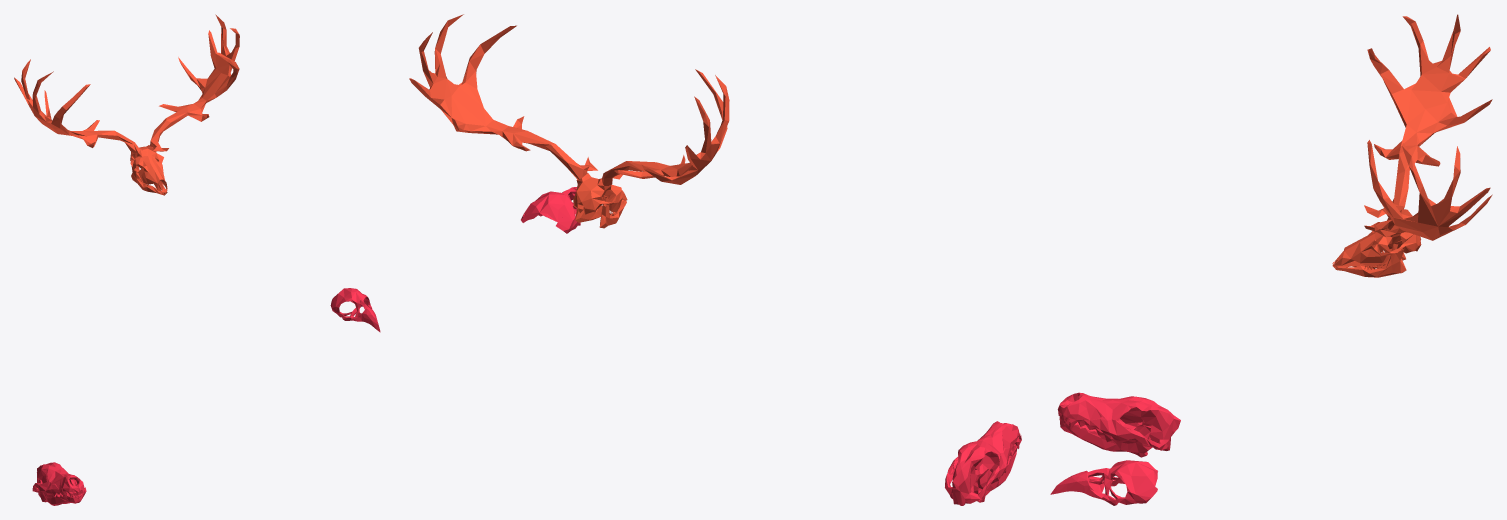
File: fisicasFalsas.glb
3 views of the same model, side by side, from view 1: azimuth 30°, elevation 25°; view 2: azimuth 150°, elevation 25°; view 3: azimuth 270°, elevation 25° (orthographic). The views are drawn at different scales.
Visible parts, largest first — view 1: antil_skull1, wolf_skull1, crow_skull1; view 2: antil_skull1, wolf_skull1, crow_skull1; view 3: antil_skull1, wolf_skull1, crow_skull1.
Part boxes in pixels (x1=…): antil_skull1: x1=14, y1=14, x2=239, y2=195; wolf_skull1: x1=32, y1=462, x2=86, y2=505; crow_skull1: x1=330, y1=288, x2=380, y2=332; antil_skull1: x1=409, y1=14, x2=729, y2=228; wolf_skull1: x1=945, y1=421, x2=1021, y2=505; crow_skull1: x1=521, y1=187, x2=580, y2=233; antil_skull1: x1=1332, y1=14, x2=1492, y2=277; wolf_skull1: x1=1057, y1=392, x2=1180, y2=457; crow_skull1: x1=1050, y1=460, x2=1157, y2=505.
Size of what is drawn, in the model's own units: 9.29 by 9.17 by 7.31.
